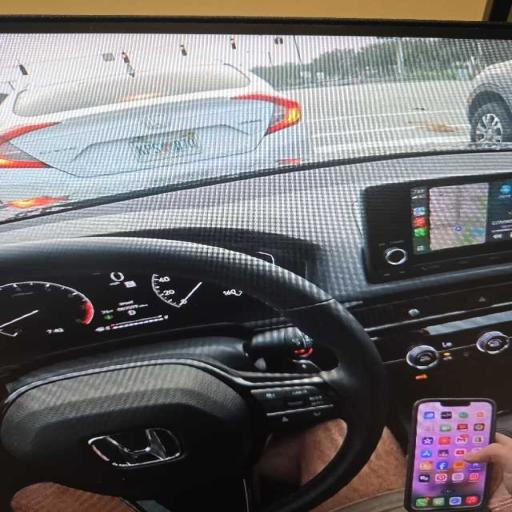car: (0, 18, 511, 511), (0, 64, 301, 210), (468, 61, 511, 144)
lane: (287, 81, 471, 159)
person: (315, 429, 405, 511)
